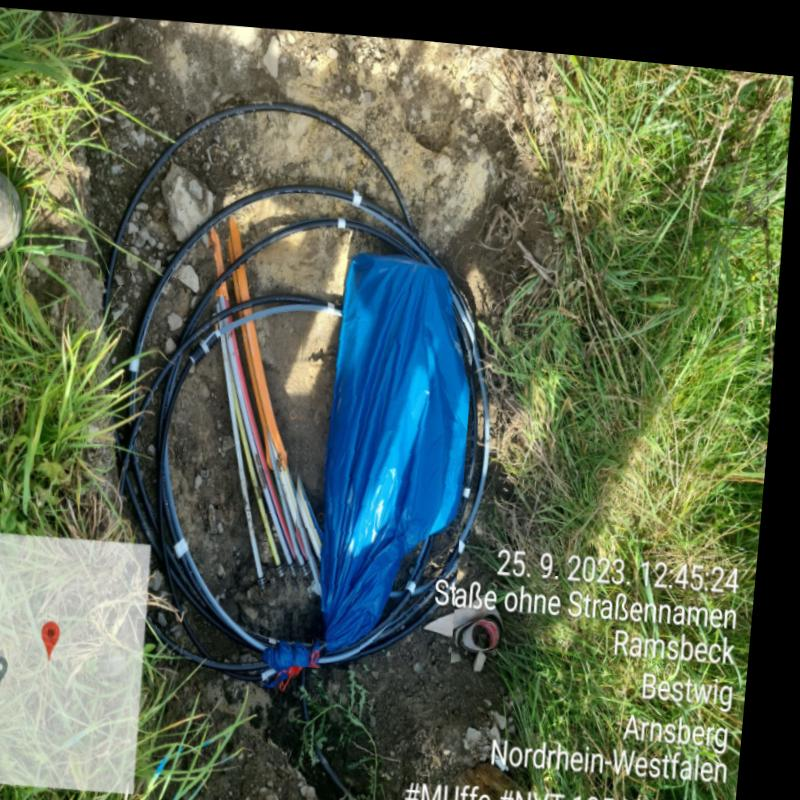NT-Muffen: (301, 238, 477, 659)
